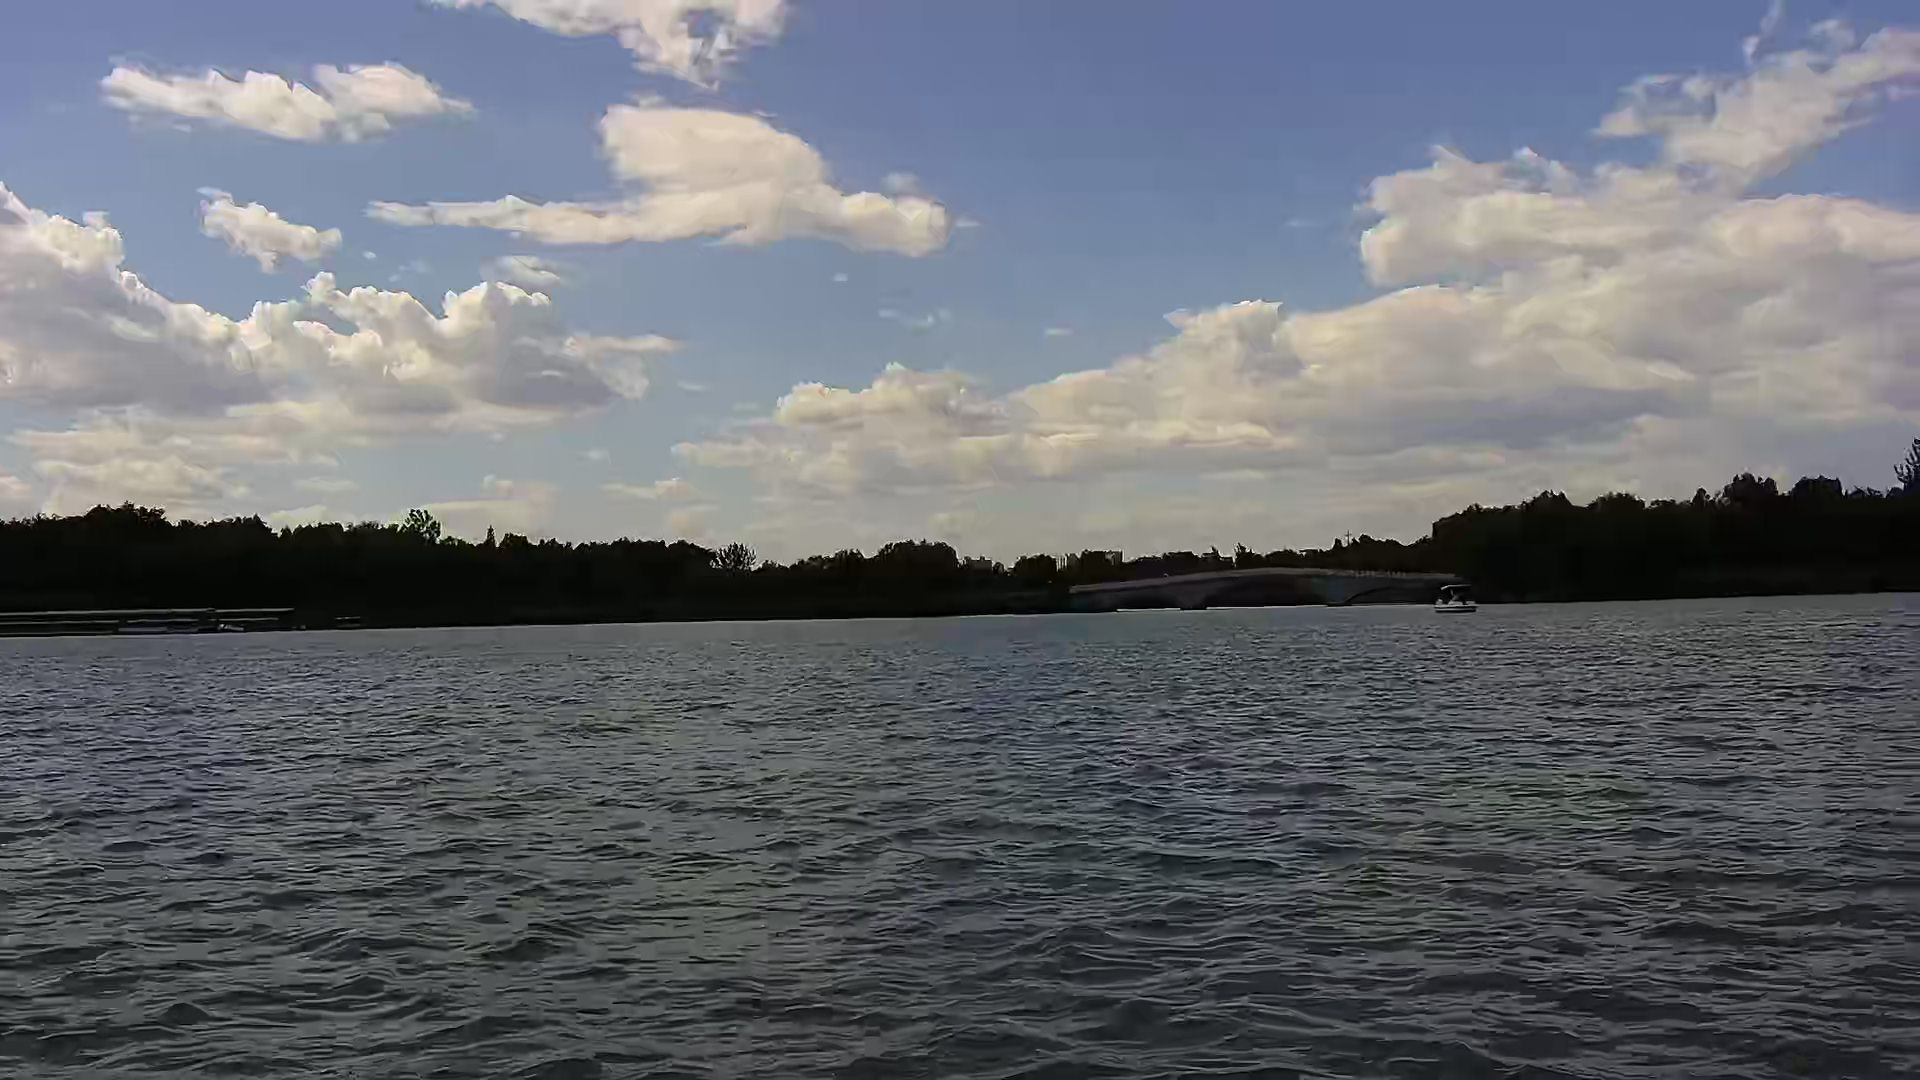boat: (1433, 584, 1481, 613)
bridge: (1077, 570, 1455, 607), (1, 611, 291, 630)
